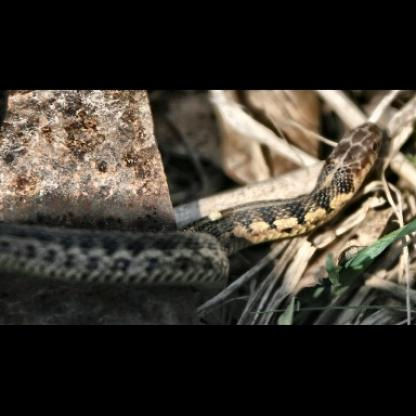Snake: (1, 118, 390, 297)
